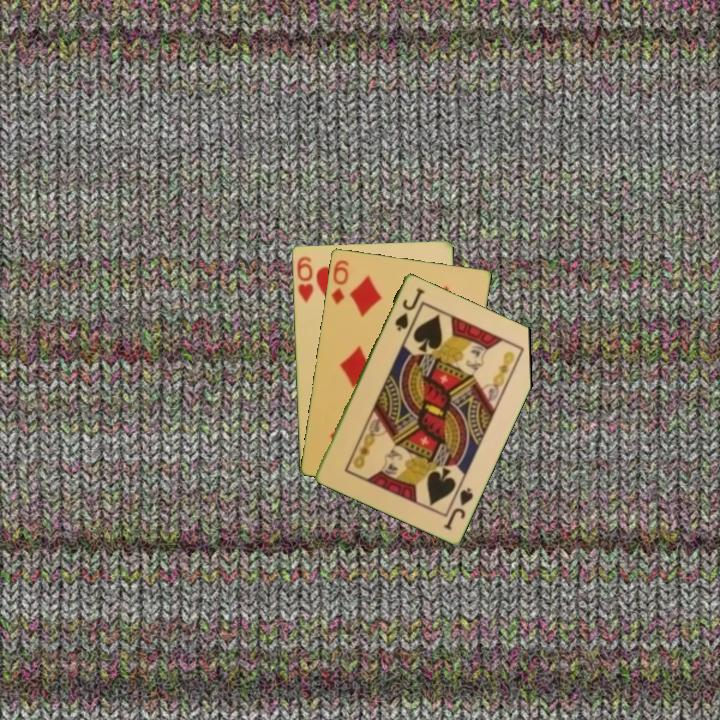6d: (327, 256, 351, 307)
6h: (293, 253, 316, 305)
Js: (440, 484, 476, 533), (391, 284, 426, 334)
